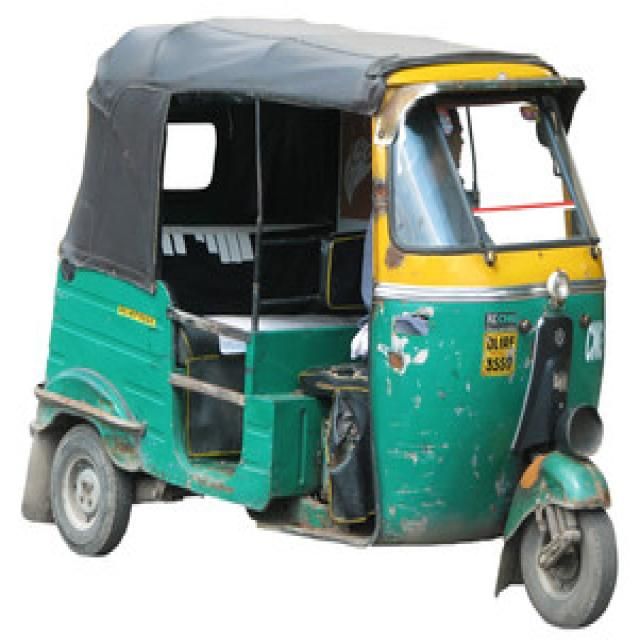three wheeler: (23, 21, 614, 627)
